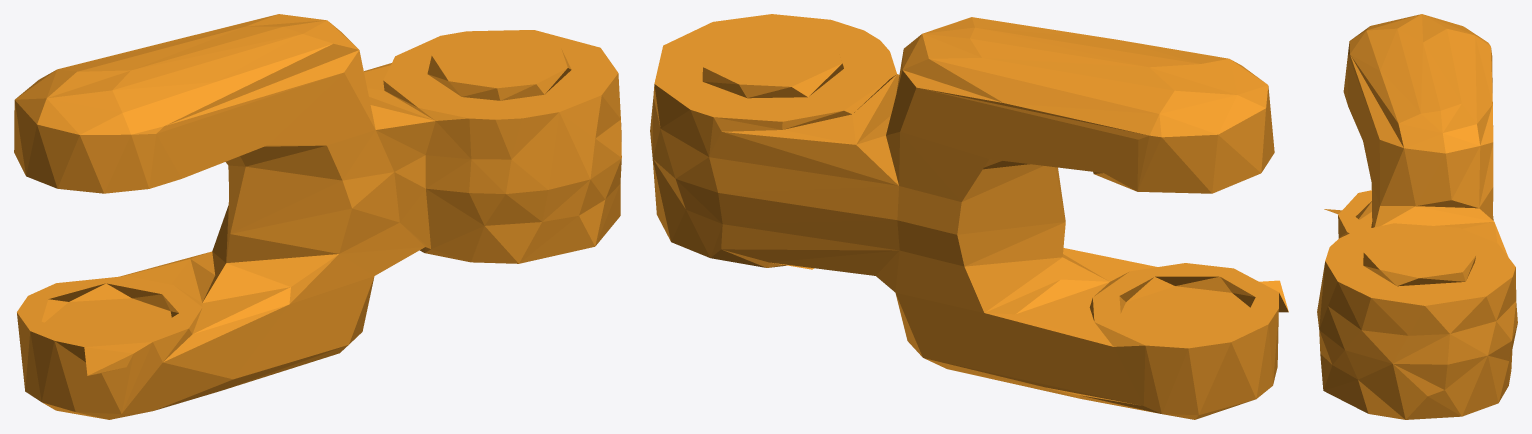
Rendered from KukaKR6R700CRLink2.dae.
3 renders of one model, left to right at view 1: azimuth 30°, elevation 25°; view 2: azimuth 150°, elevation 25°; view 3: azimuth 270°, elevation 25°, orthographic. The views are drawn at different scales.
Visible parts, largest first — view 1: KukaKR6R700CRLink2; view 2: KukaKR6R700CRLink2; view 3: KukaKR6R700CRLink2.
Boxes of the visible parts, <box> form: KukaKR6R700CRLink2: <box>14,14,621,419</box>; KukaKR6R700CRLink2: <box>650,14,1288,419</box>; KukaKR6R700CRLink2: <box>1317,14,1517,419</box>.
Bounding box in the file's own units: 0.4919 × 0.1806 × 0.2601.
